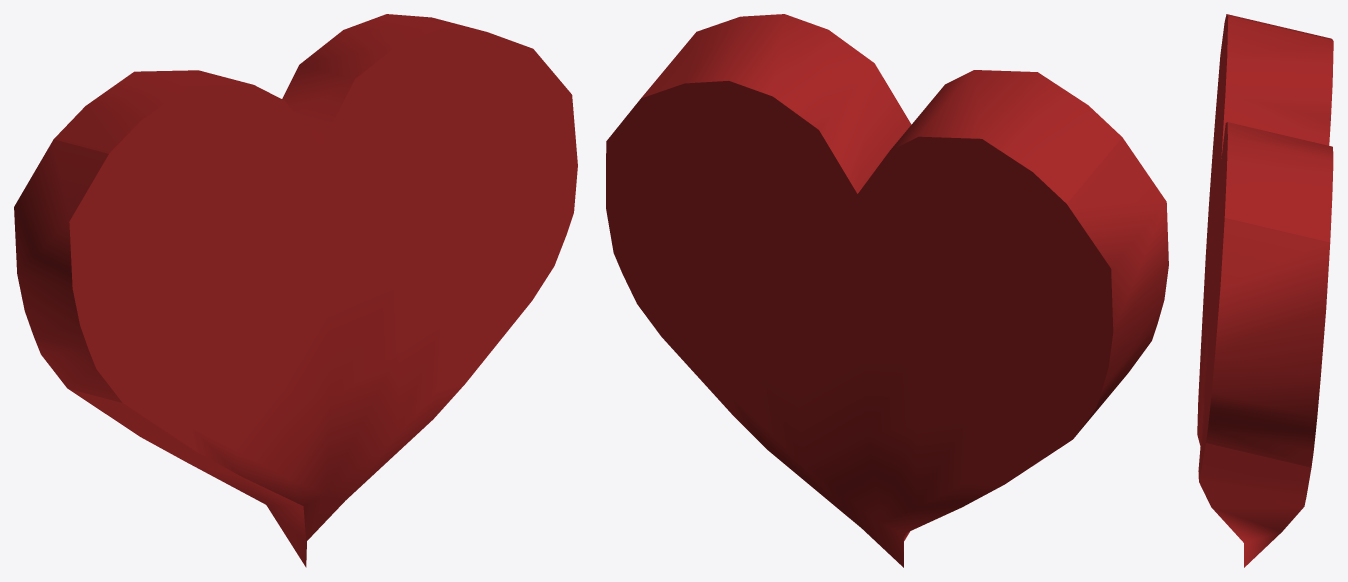
The model's file is Coraçao.fbx.
3 views of the same model, side by side, from view 1: azimuth 30°, elevation 25°; view 2: azimuth 150°, elevation 25°; view 3: azimuth 270°, elevation 25° (orthographic). The views are drawn at different scales.
Visible parts, largest first — view 1: pCube1; view 2: pCube1; view 3: pCube1.
Part boxes in pixels (bbox=[...]): pCube1: bbox=[14, 14, 577, 567]; pCube1: bbox=[606, 14, 1168, 567]; pCube1: bbox=[1197, 14, 1333, 567].
Bounding box in the file's own units: 11.12 × 10.89 × 2.73.
